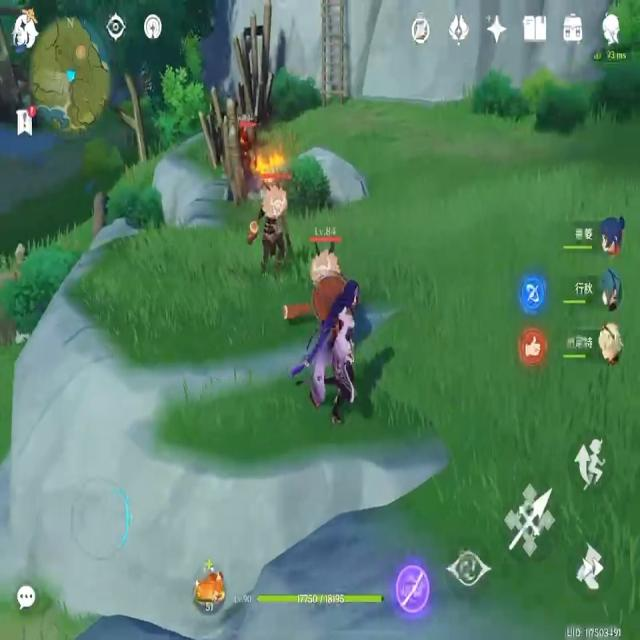genshin-hilichurls: (250, 164, 288, 265), (311, 217, 342, 306), (235, 111, 250, 166)
